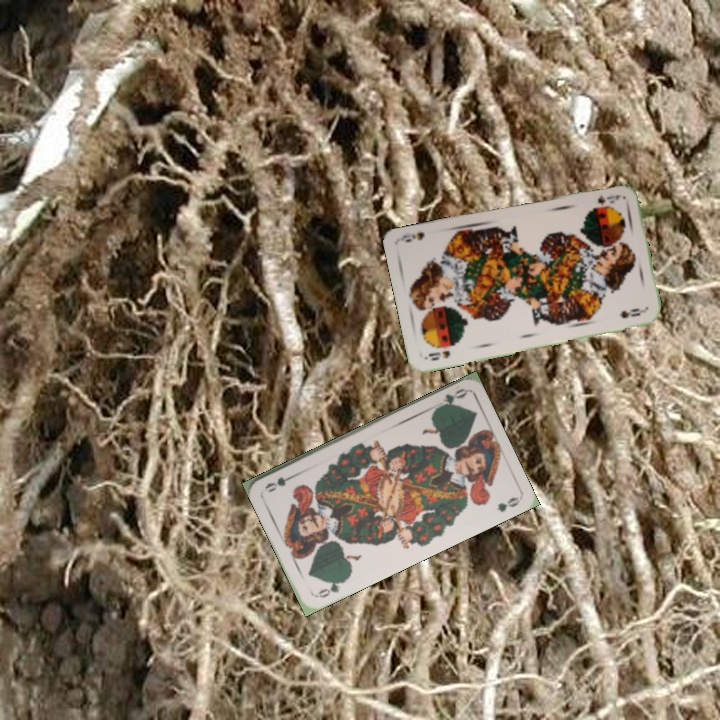GO: (432, 384, 469, 413), (312, 575, 349, 601)
SO: (422, 346, 453, 363), (594, 191, 622, 208)
